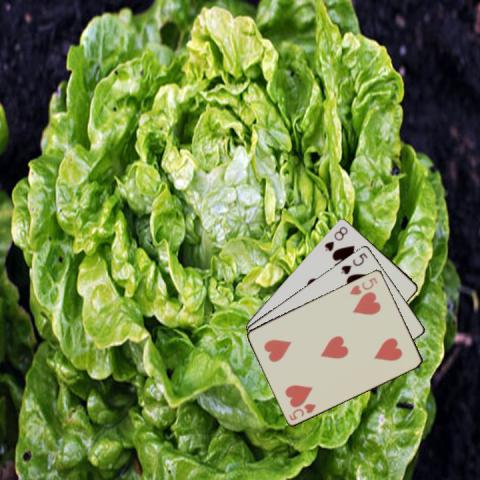5h: (346, 274, 378, 296), (286, 400, 318, 422)
5s: (338, 250, 369, 276)
8s: (322, 223, 350, 253)
